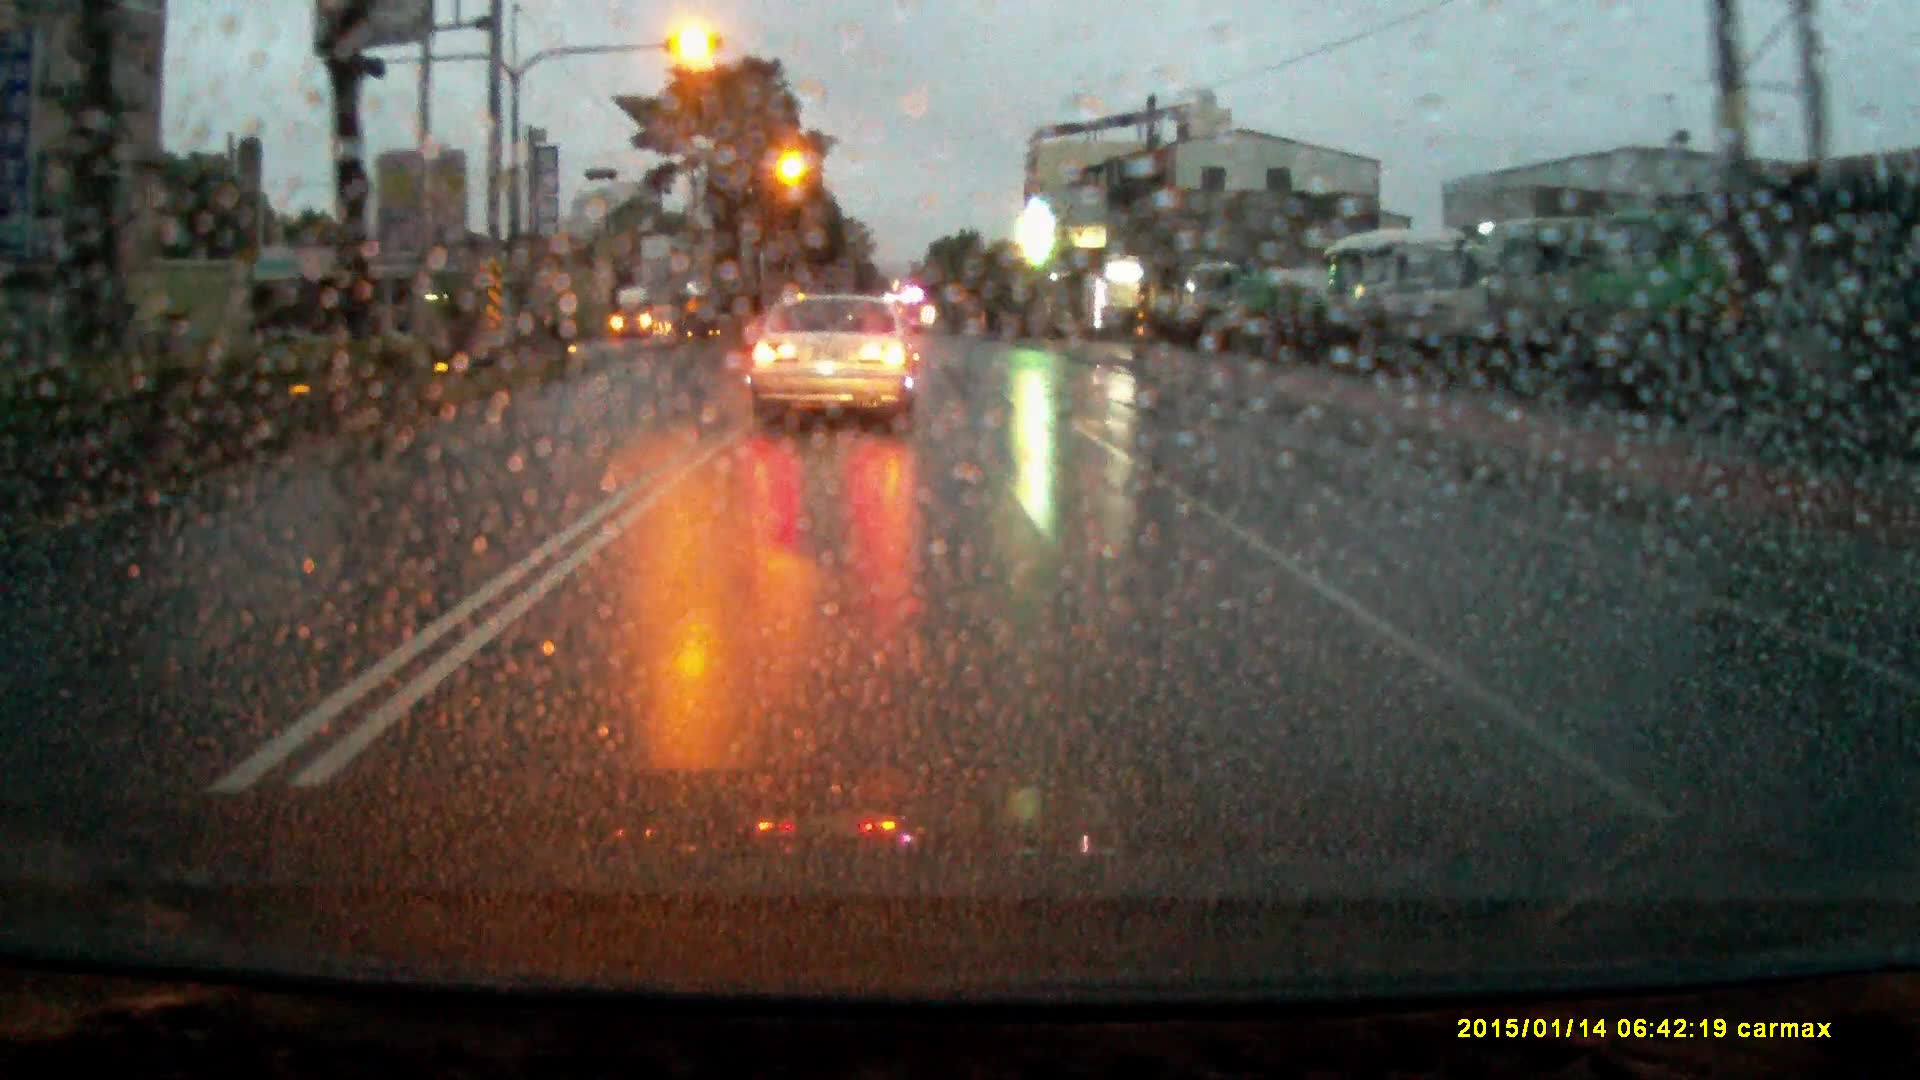vehicle: (1606, 203, 1738, 410), (748, 295, 923, 431), (1487, 215, 1607, 394), (1387, 228, 1491, 367), (1327, 237, 1415, 345), (1221, 270, 1352, 334), (1185, 264, 1247, 331), (615, 287, 673, 339)
